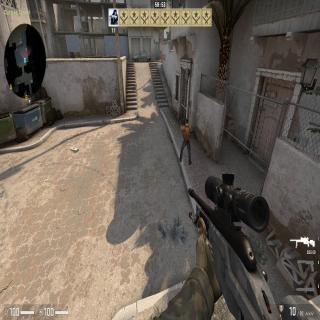T-Body: (180, 118, 192, 166)
T-Head: (185, 118, 189, 125)
